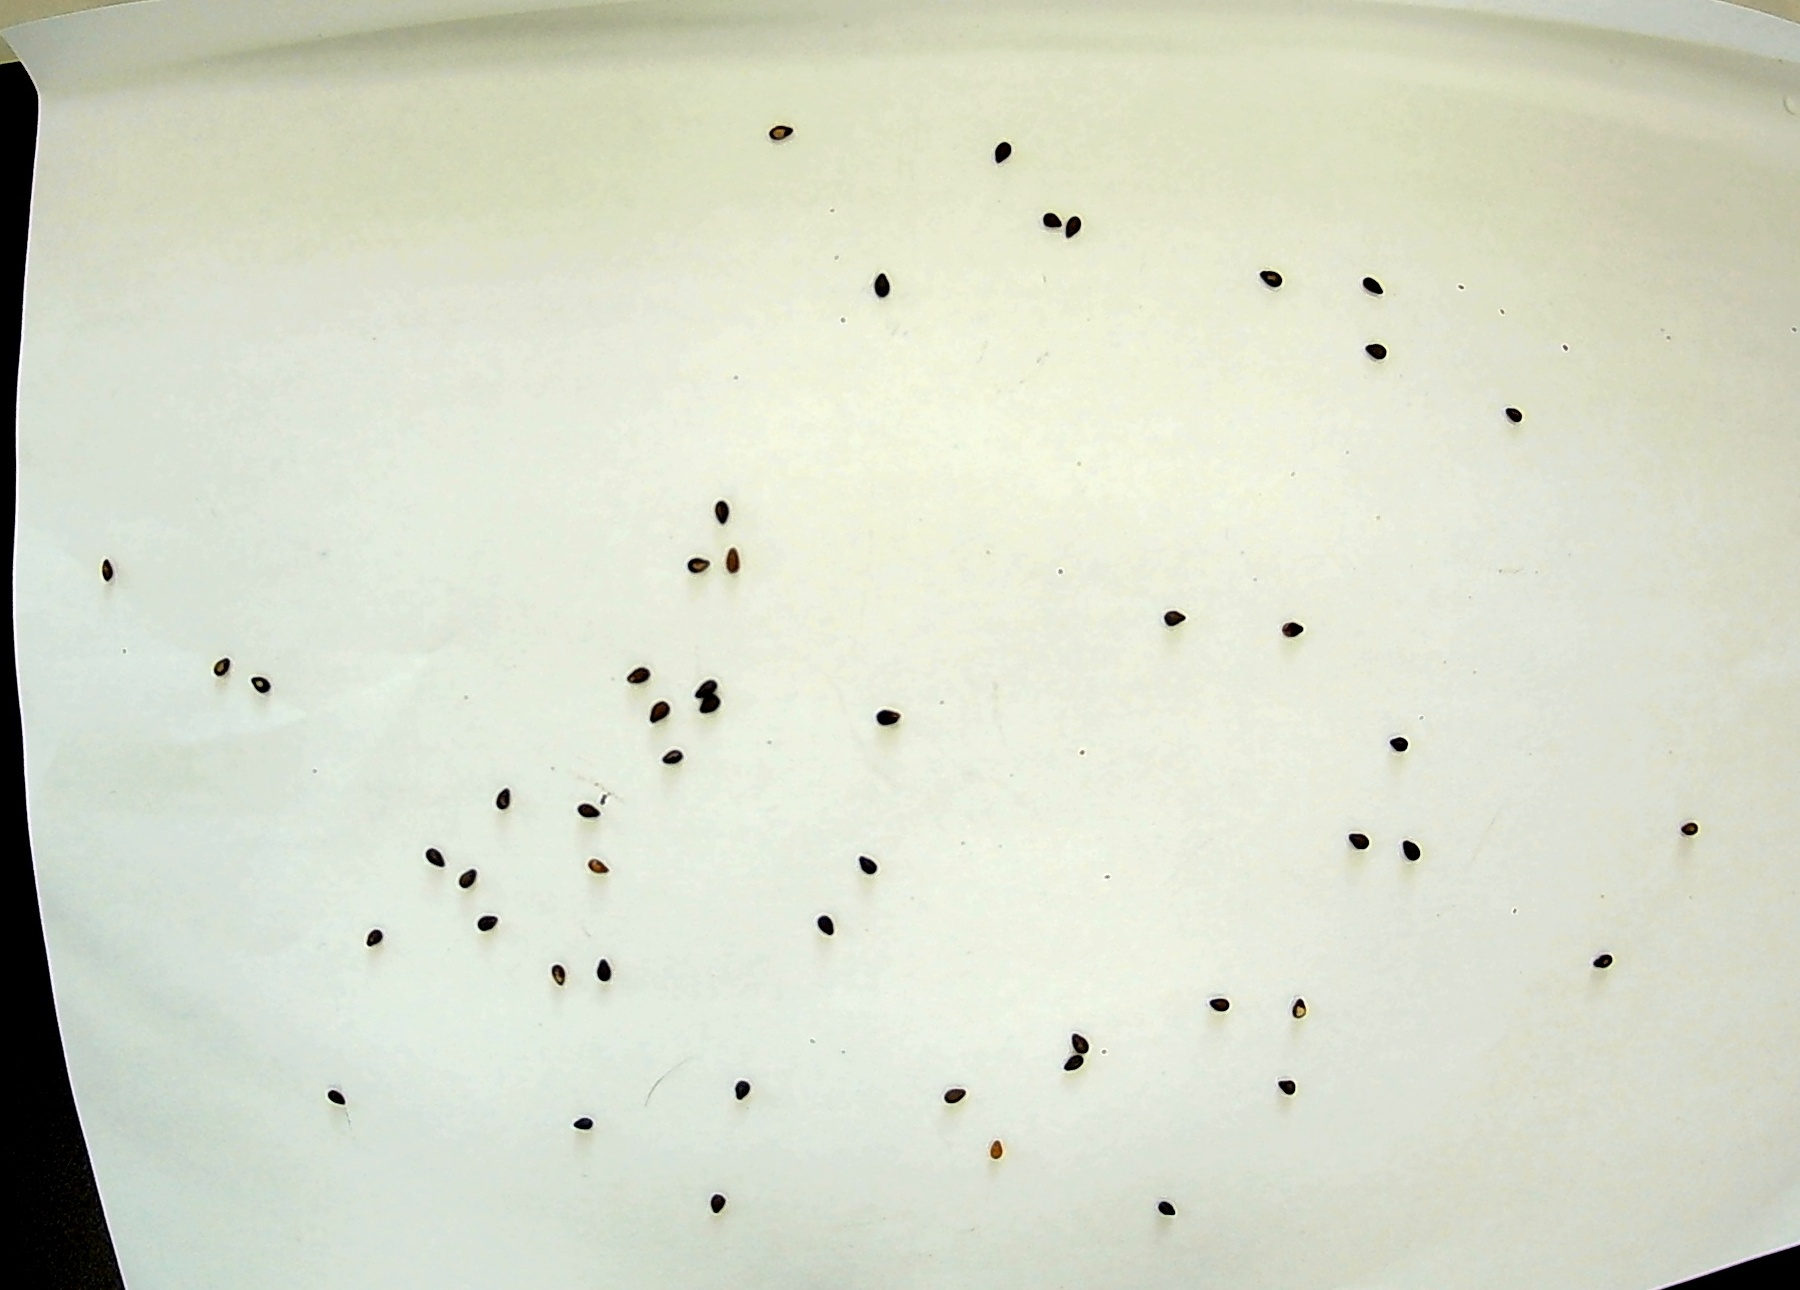sesami: (488, 782, 536, 815), (869, 268, 911, 304), (684, 542, 714, 591), (681, 674, 737, 699), (1243, 260, 1287, 292), (243, 666, 282, 701), (624, 660, 664, 692), (1347, 821, 1374, 861), (659, 741, 698, 769), (1067, 209, 1093, 253), (632, 698, 671, 725), (1353, 275, 1398, 297), (98, 550, 123, 589), (479, 905, 505, 940), (1379, 732, 1413, 758), (1160, 603, 1196, 628), (724, 537, 744, 584), (585, 850, 615, 880), (322, 1081, 354, 1109), (765, 113, 797, 141), (1358, 338, 1395, 362), (548, 958, 573, 993), (700, 697, 740, 719), (207, 652, 236, 681), (421, 836, 449, 867), (359, 923, 391, 949), (982, 138, 1014, 165), (848, 850, 880, 877), (868, 704, 908, 725), (712, 489, 731, 531), (569, 1109, 599, 1136), (1585, 942, 1614, 970), (1060, 1053, 1100, 1074), (943, 1083, 974, 1110), (1679, 815, 1705, 846), (593, 956, 615, 991), (813, 907, 836, 942), (1501, 395, 1524, 430), (1062, 1032, 1097, 1053), (1151, 1198, 1187, 1217), (1398, 838, 1425, 864), (1278, 616, 1307, 639), (1289, 991, 1310, 1023), (1040, 208, 1065, 235), (707, 1189, 728, 1220), (1203, 995, 1236, 1014), (458, 867, 483, 891), (579, 801, 606, 824), (987, 1138, 1012, 1160), (731, 1074, 749, 1104), (1273, 1078, 1300, 1097)
